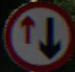Two way: (11, 9, 65, 59)
